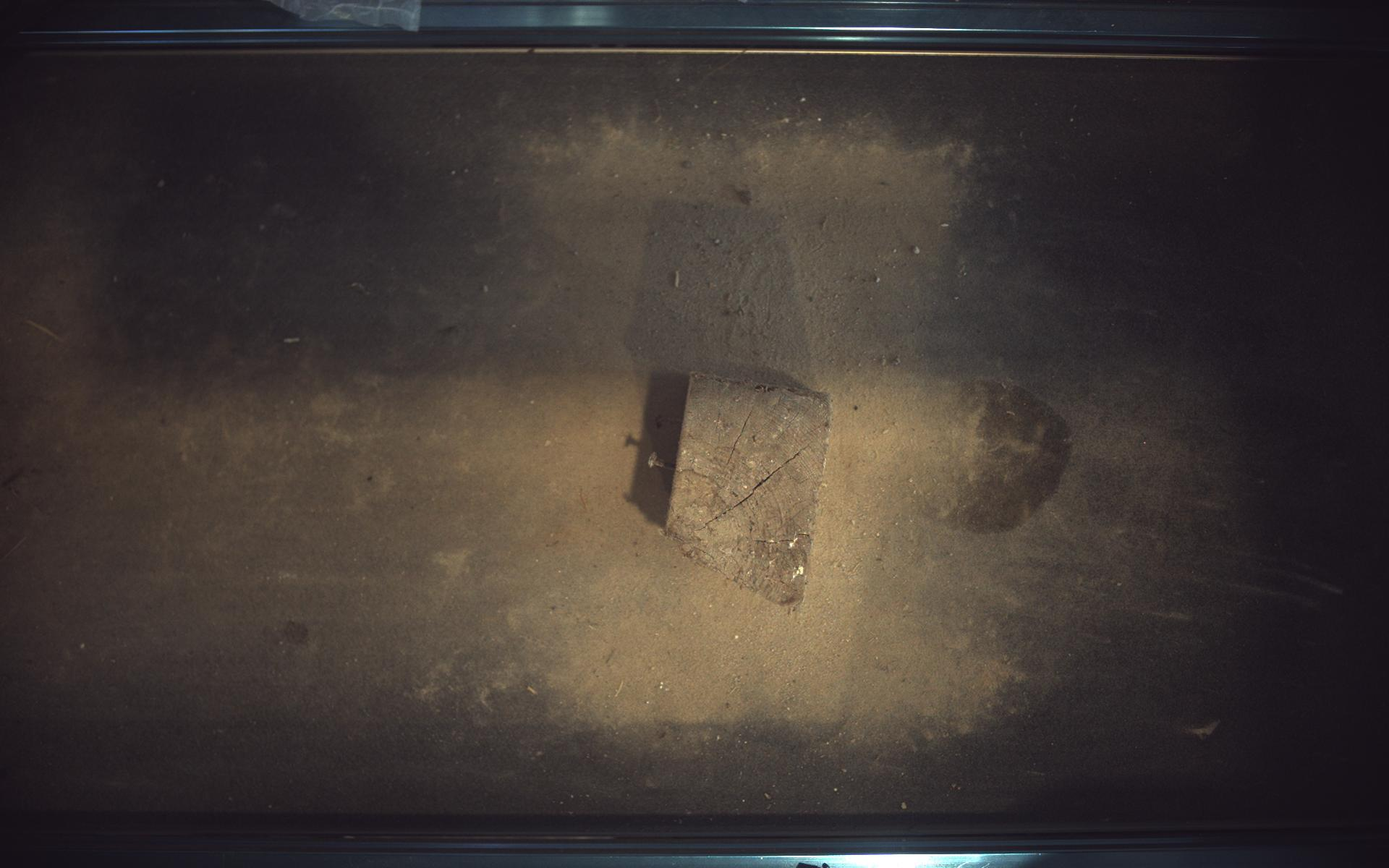wood: (667, 373, 831, 605)
